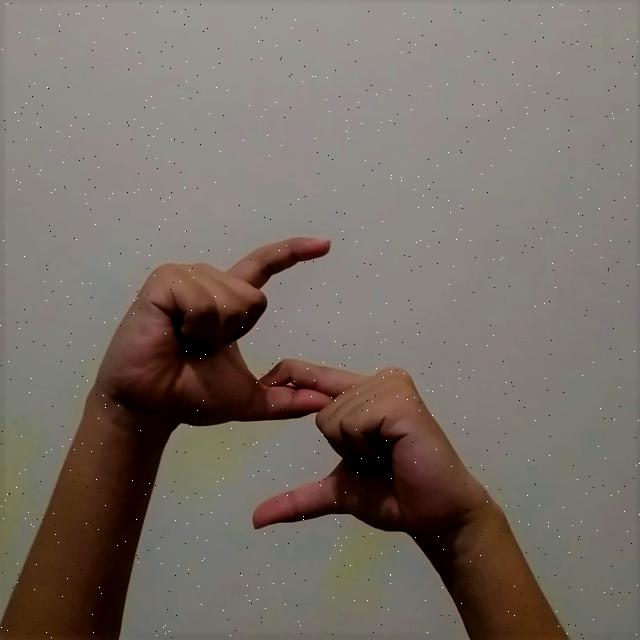S: (91, 208, 493, 558)
